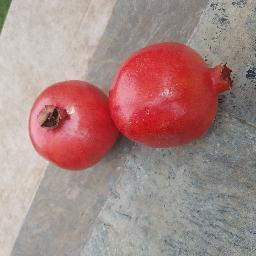Good_pomegranate: (107, 36, 238, 149), (28, 76, 118, 170)
